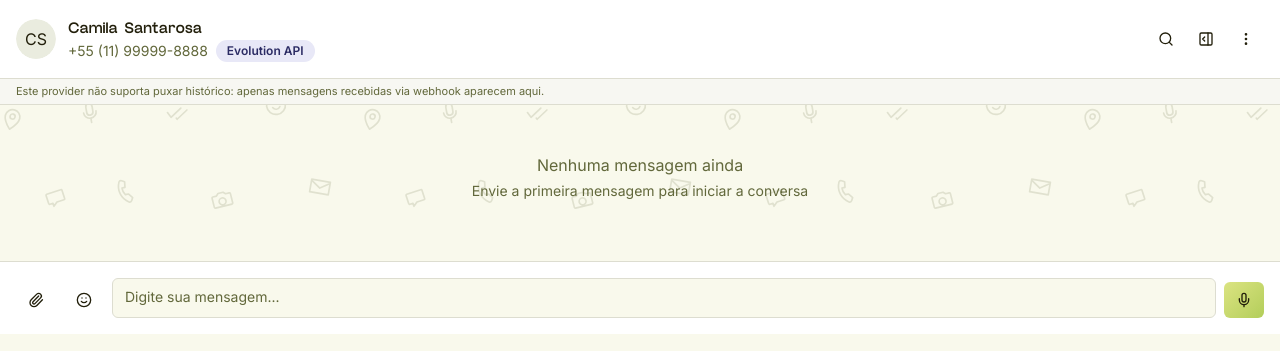
Test: ChatWindow — bot em atendimento › sem sessão: não monta selo nenhum e o item do menu fica desabilitado
The image size is (1280, 351).
Expected: the heading "Camila Santarosa" is shown, [68,17,202,39]
Click the button named "Mais opções".
click(1246, 39)  # box [1228,21,1264,57]
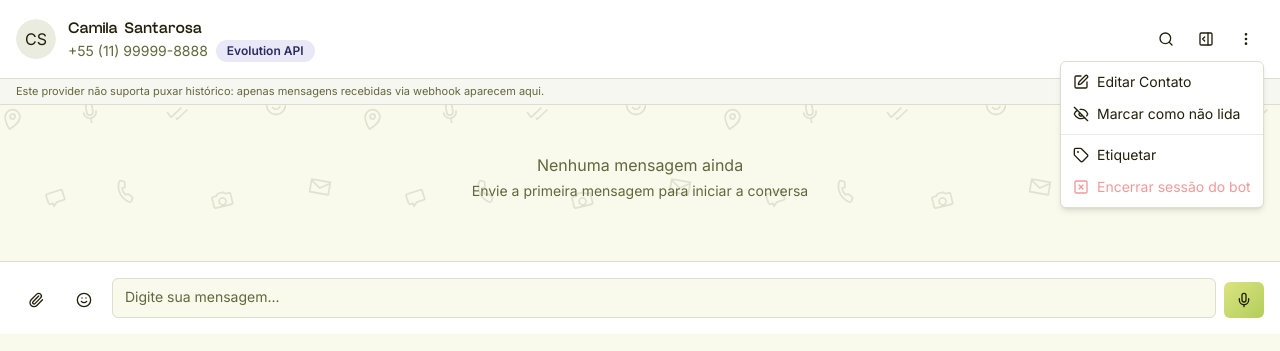
Now the menu item "Encerrar sessão do bot" is shown, box [1073,178,1251,195]
